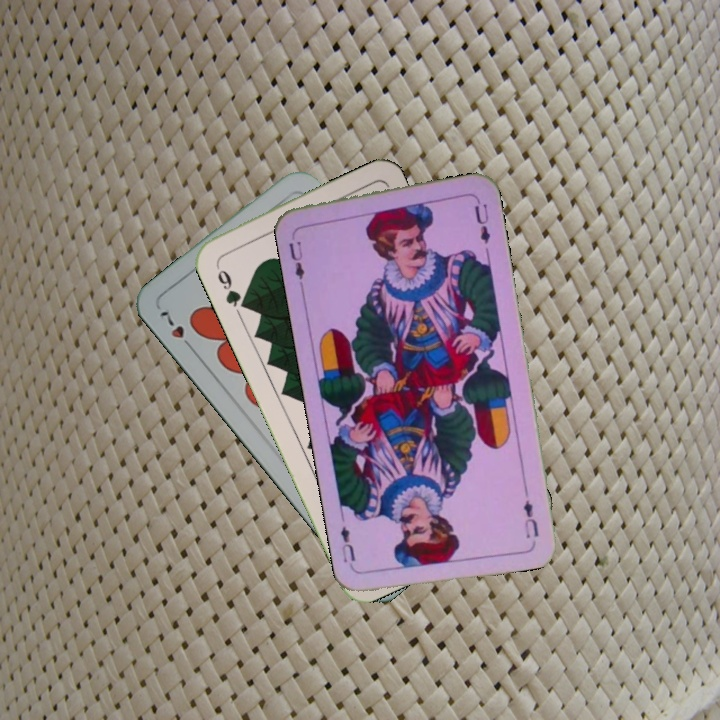EU: (285, 236, 307, 288), (519, 496, 541, 541)
G9: (211, 259, 250, 311)
H7: (155, 307, 197, 354)
